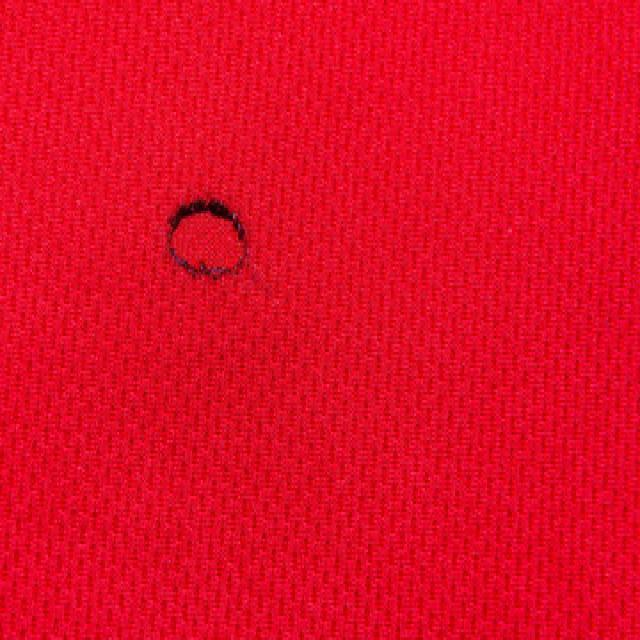Hole: (168, 199, 248, 278)
